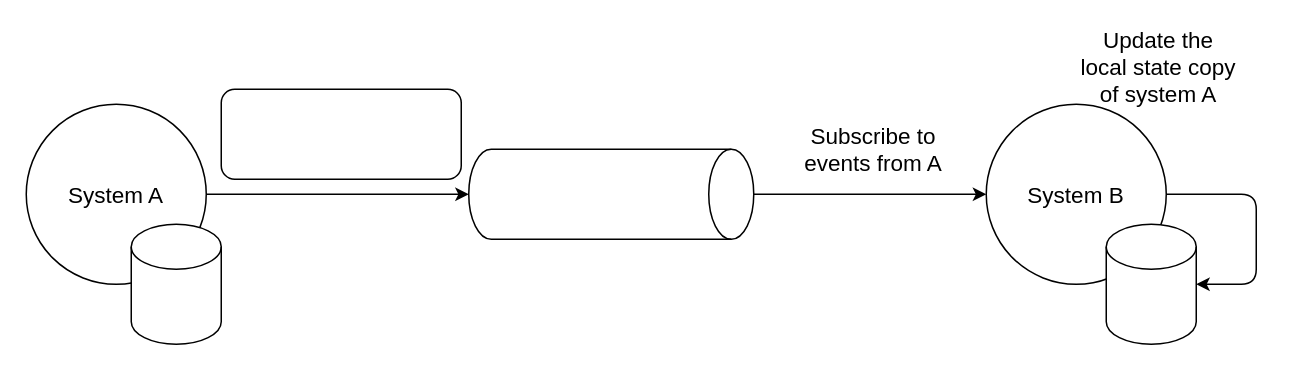
Some shapes in this 1295 by 371 pixel diagram are drawn without their labels. Here are the shapes that lost their labels. From the top down, the centre of each, then its label:
At point 340,133: "Event: A state changes state1 => state2".
At point 610,193: "Messaging System".
